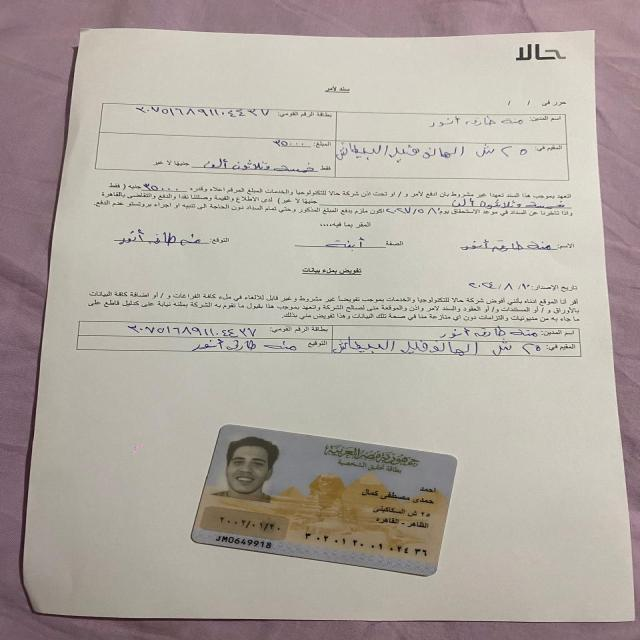id_card: (182, 417, 467, 584)
